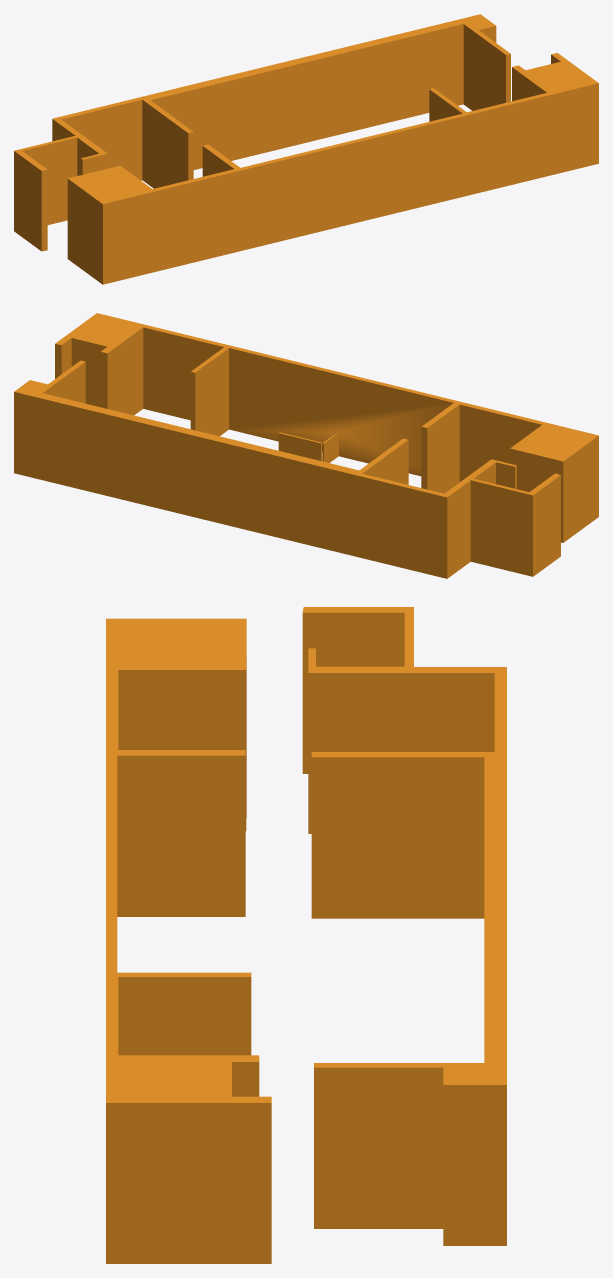
Rendered from VizLab_AR_Walls.FBX.
3 views of the same model, one above another, from view 1: azimuth 30°, elevation 25°; view 2: azimuth 150°, elevation 25°; view 3: azimuth 270°, elevation 25° (orthographic). The views are drawn at different scales.
Parts seen in each view (by area): view 1: VizLabWalls; view 2: VizLabWalls; view 3: VizLabWalls.
Boxes of the visible parts, x1,y1,x2,y2 form: VizLabWalls: [14, 14, 598, 284]; VizLabWalls: [14, 313, 598, 578]; VizLabWalls: [106, 607, 506, 1263].
Size of the model in its own units: 1230 by 186 by 421.
